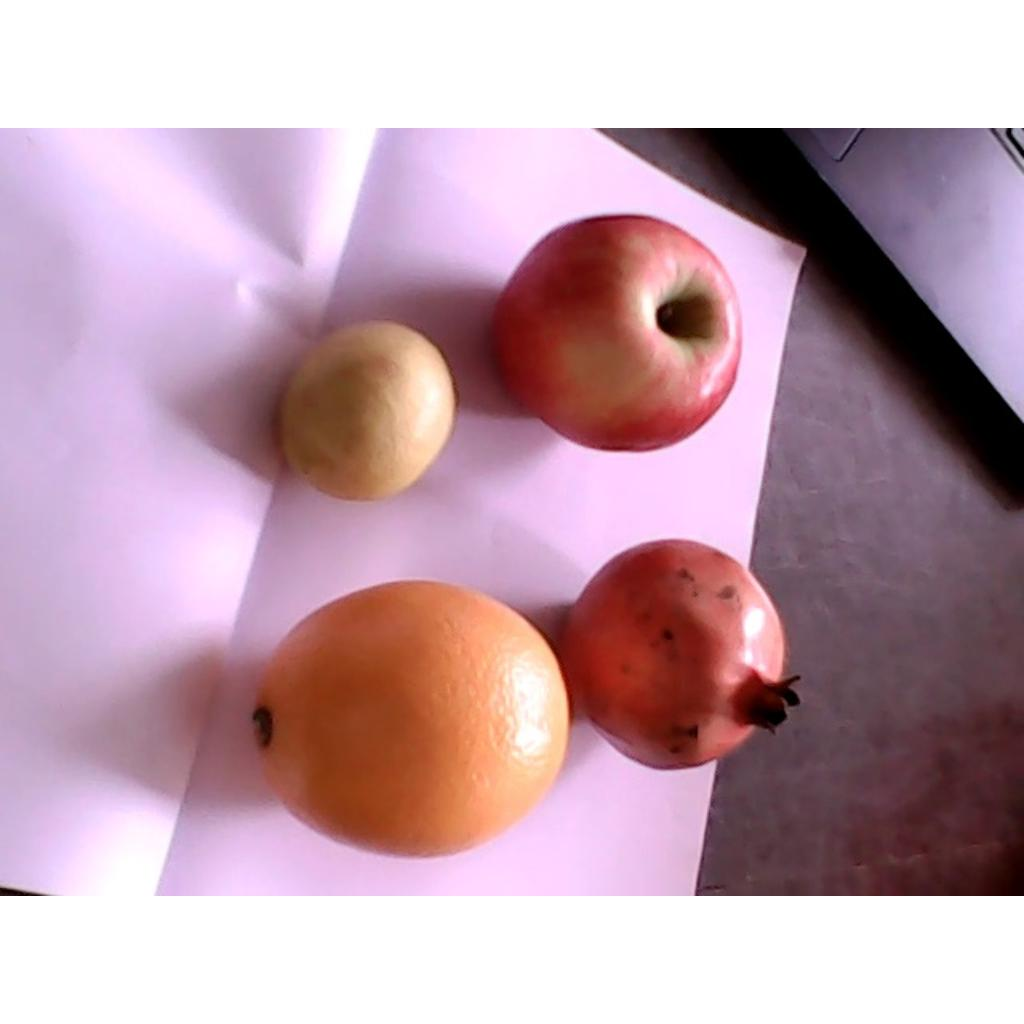apple: (490, 215, 742, 450)
lemon: (276, 320, 454, 502)
orange: (250, 578, 572, 859)
pomegranate: (562, 539, 801, 771)
